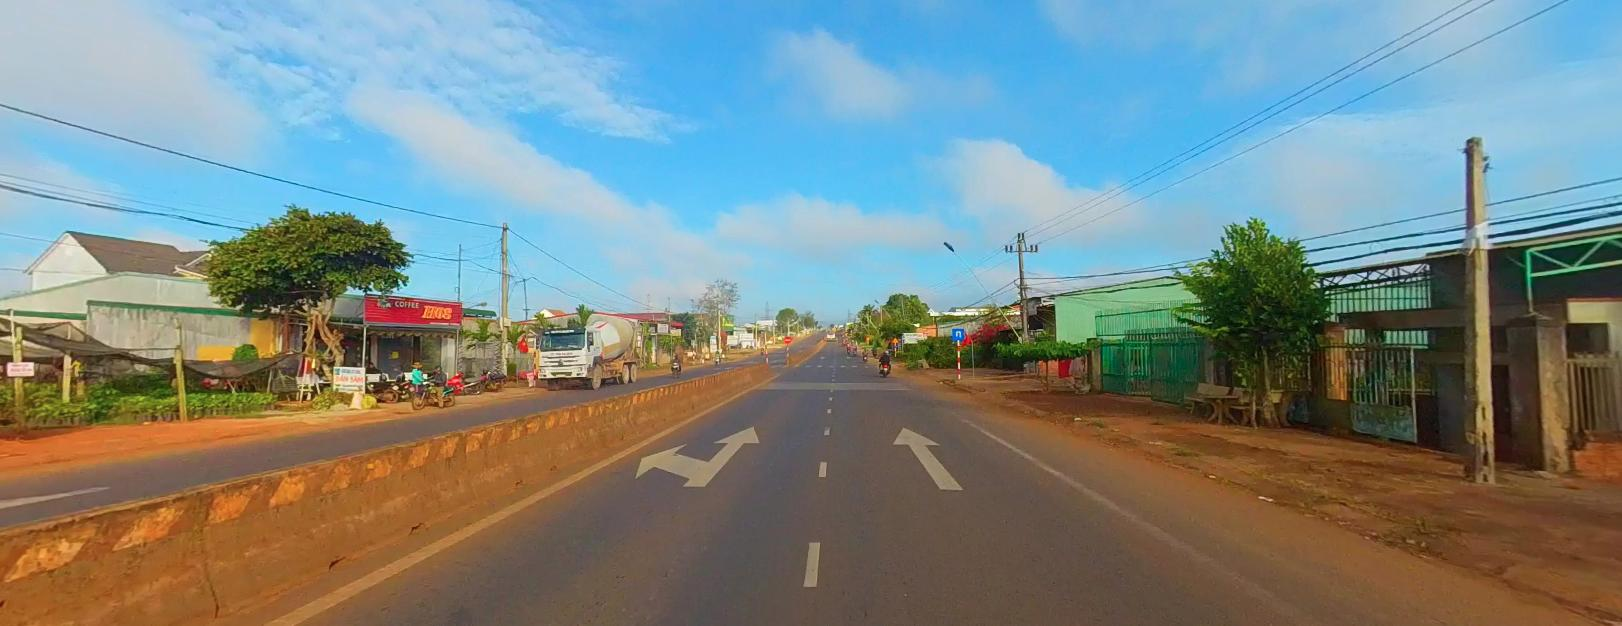Cam nguoc chieu: (783, 334, 791, 341)
Nguy hiem: (891, 335, 898, 341)
